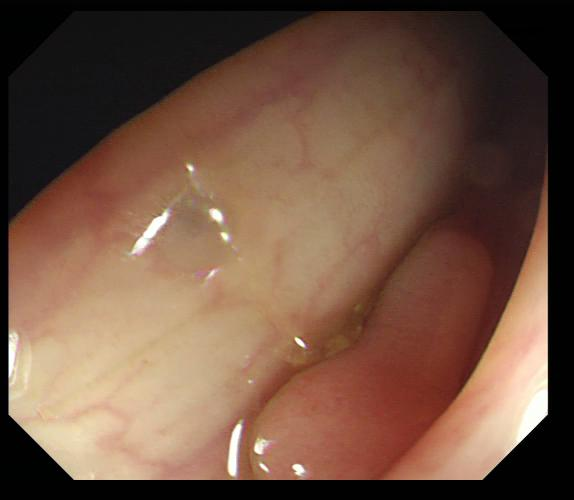polyp: (248, 231, 501, 478)
